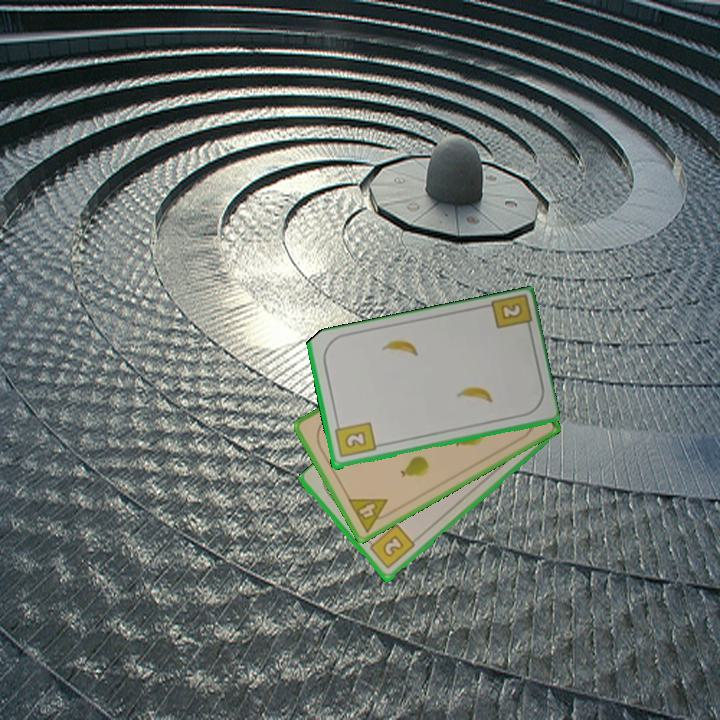2b: (365, 521, 418, 572), (331, 419, 378, 461), (497, 299, 525, 323)
4p: (344, 495, 397, 535)
